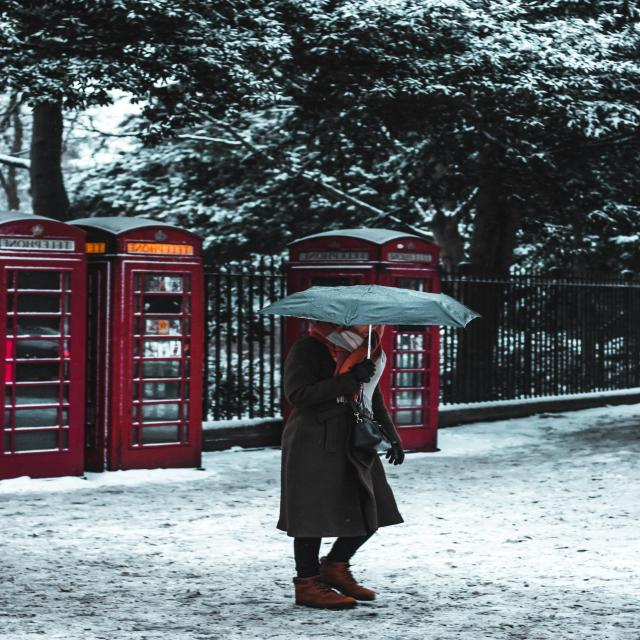adult: (282, 322, 404, 609)
